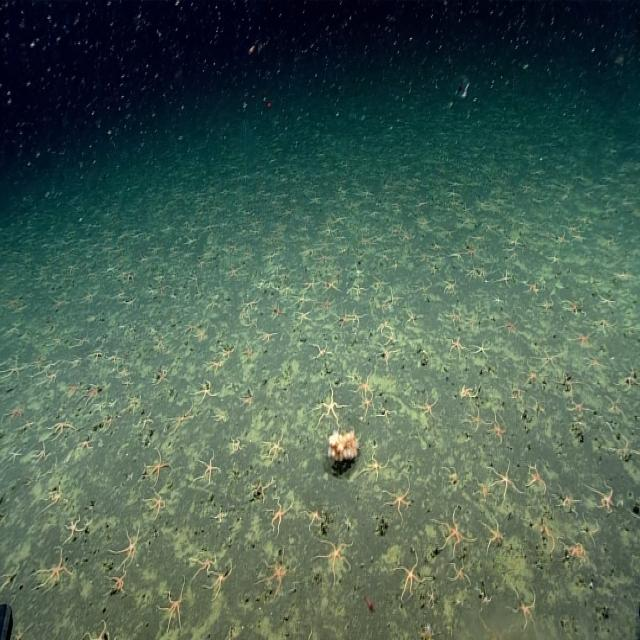brittle-stars: (308, 368, 358, 432), (251, 544, 302, 604), (430, 501, 480, 562), (28, 548, 82, 603), (374, 468, 421, 531), (387, 550, 435, 608), (310, 536, 361, 588), (101, 523, 147, 577), (502, 584, 542, 640), (487, 454, 529, 507), (156, 575, 188, 640), (261, 494, 300, 544), (188, 442, 226, 493), (516, 517, 564, 553), (355, 445, 398, 484), (203, 561, 240, 603), (33, 479, 67, 524), (260, 419, 294, 463), (584, 482, 627, 516), (140, 443, 174, 485), (458, 404, 501, 437), (163, 399, 198, 439), (184, 547, 218, 588), (98, 564, 131, 606), (520, 458, 554, 498), (476, 513, 509, 554), (472, 591, 497, 640), (608, 426, 640, 464), (558, 536, 598, 566), (0, 346, 26, 392), (141, 485, 168, 529), (530, 345, 568, 376), (578, 352, 618, 381), (10, 601, 39, 640), (85, 607, 119, 640), (412, 387, 444, 422), (484, 410, 515, 446), (446, 555, 473, 596), (44, 414, 79, 444), (62, 515, 94, 547), (245, 473, 276, 506), (562, 392, 601, 418), (452, 378, 489, 405), (567, 325, 600, 355), (596, 393, 632, 420), (512, 364, 549, 390), (0, 564, 24, 604), (374, 396, 406, 426), (574, 514, 603, 547), (617, 362, 640, 403), (559, 292, 589, 323), (189, 378, 221, 407), (31, 351, 64, 379), (372, 342, 407, 368), (311, 326, 338, 359), (548, 374, 588, 396), (302, 502, 329, 534), (225, 428, 250, 462), (1, 398, 27, 430), (554, 489, 588, 513), (30, 433, 52, 469), (500, 313, 530, 339), (355, 366, 377, 401), (471, 336, 500, 362), (79, 383, 104, 413), (472, 475, 497, 505), (589, 314, 620, 338), (73, 430, 99, 458), (492, 265, 520, 291), (151, 361, 174, 392), (348, 304, 373, 332), (446, 332, 470, 361), (40, 368, 63, 398), (441, 457, 461, 491), (464, 260, 492, 284), (91, 412, 118, 436), (5, 436, 25, 468), (236, 387, 261, 412), (398, 306, 424, 330), (61, 377, 81, 408), (208, 502, 230, 530), (503, 384, 531, 406), (595, 290, 623, 312), (520, 280, 545, 304), (370, 268, 393, 294), (527, 399, 550, 425), (358, 395, 380, 422), (60, 352, 88, 373), (124, 390, 146, 416), (299, 612, 319, 640), (463, 311, 486, 335), (438, 277, 462, 300), (139, 406, 157, 436), (200, 358, 230, 376), (442, 311, 469, 331), (69, 329, 92, 352), (104, 348, 126, 372), (383, 283, 404, 308), (222, 612, 240, 640), (295, 304, 316, 328), (238, 342, 258, 367), (268, 302, 288, 327), (87, 344, 106, 370), (338, 308, 356, 335), (381, 328, 403, 350), (91, 394, 109, 420), (17, 417, 38, 439), (222, 256, 243, 278), (486, 291, 509, 311), (257, 326, 281, 345), (321, 280, 346, 298), (318, 295, 338, 317), (209, 409, 232, 428), (218, 339, 236, 363), (240, 295, 264, 313), (424, 589, 441, 614), (349, 265, 370, 285), (349, 281, 365, 307), (193, 326, 213, 346), (204, 295, 223, 316), (351, 246, 370, 266), (374, 316, 393, 335), (153, 328, 169, 350), (300, 277, 322, 293), (180, 323, 198, 339), (281, 282, 296, 300), (340, 514, 355, 532), (107, 394, 121, 412), (122, 376, 136, 394), (236, 308, 250, 324), (118, 364, 131, 380), (266, 264, 278, 281)
